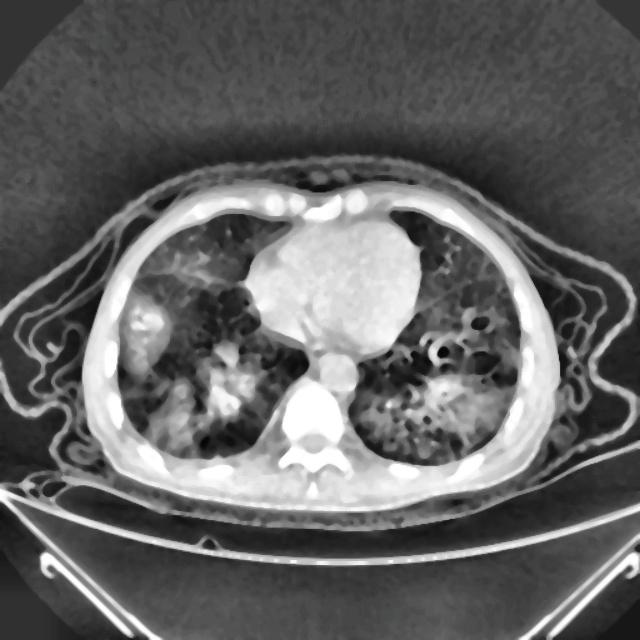covid: (80, 176, 562, 517)
